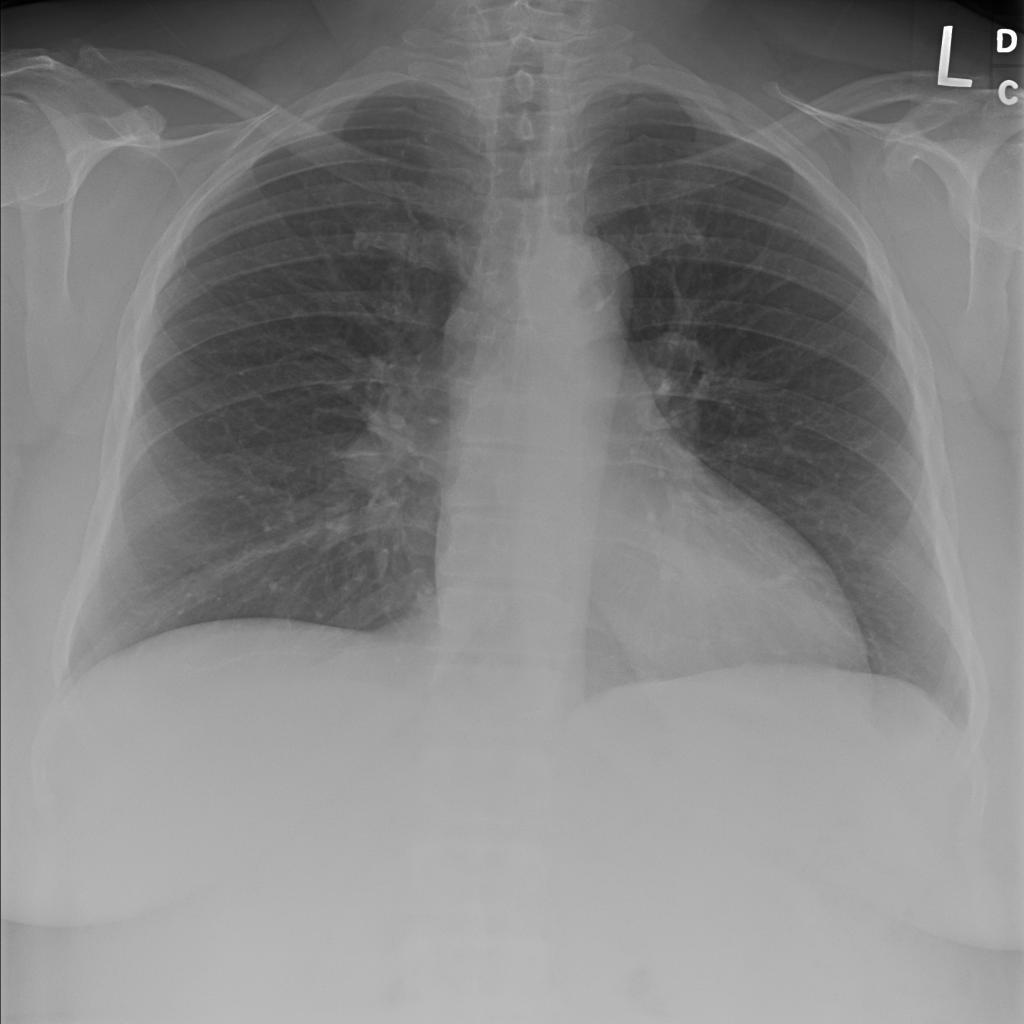Nodule: (123, 169, 163, 205), (510, 184, 524, 202)
